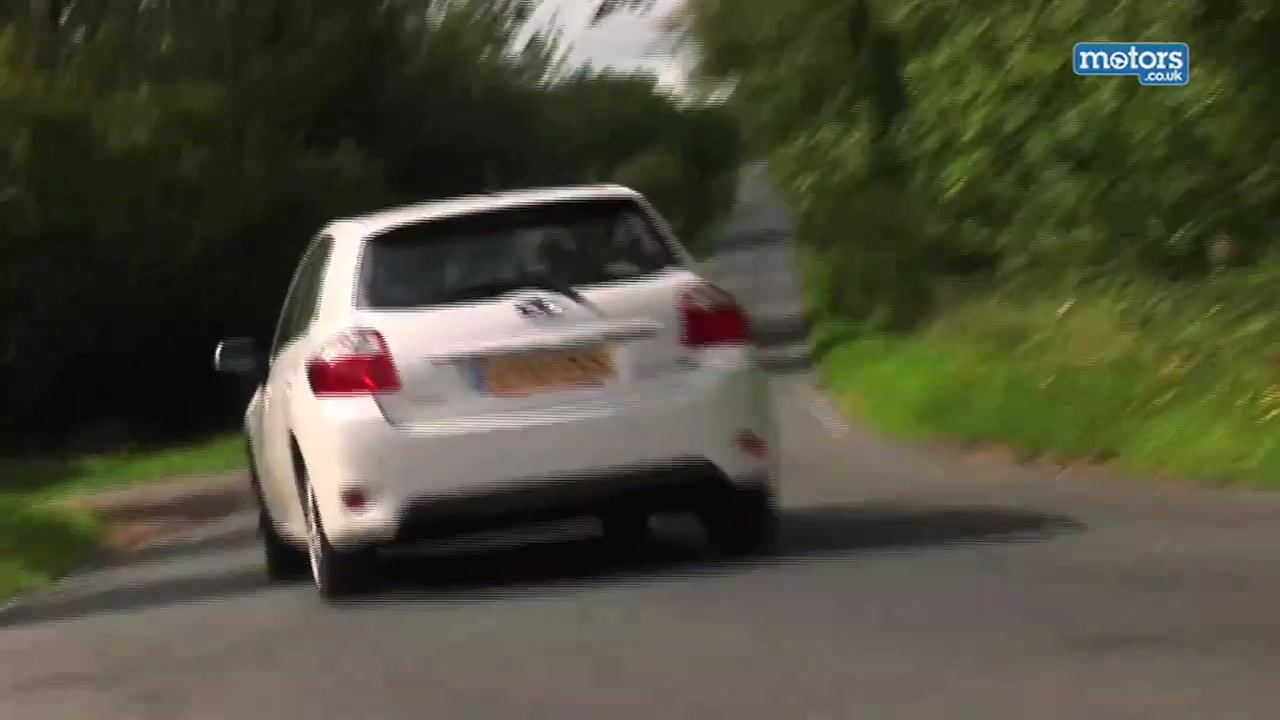car: (211, 179, 789, 606)
